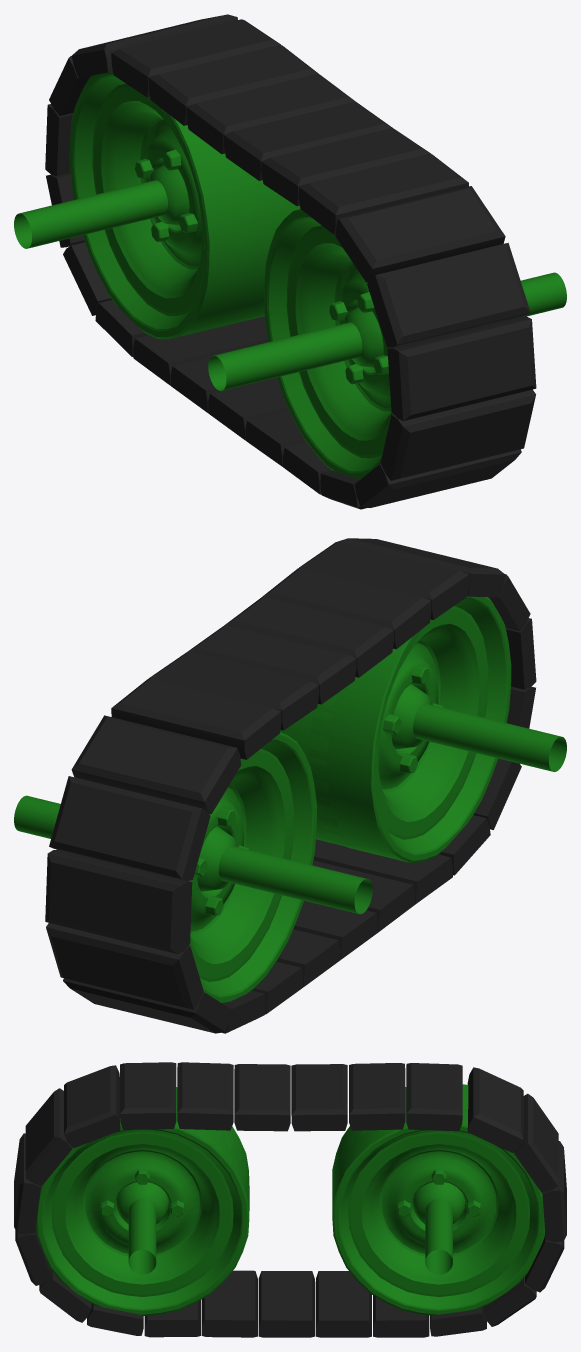
File: Tank_Wheels.FBX
3 renders of one model, top to bottom at view 1: azimuth 30°, elevation 25°; view 2: azimuth 150°, elevation 25°; view 3: azimuth 270°, elevation 25°, orthographic. The views are drawn at different scales.
Visible parts, largest first — view 1: TankTracksRight, TankTracksLeft; view 2: TankTracksRight, TankTracksLeft; view 3: TankTracksLeft, TankTracksRight.
Boxes of the visible parts, x1,y1,x2,y2 form: TankTracksRight: [61, 14, 566, 502]; TankTracksLeft: [14, 16, 529, 509]; TankTracksRight: [14, 538, 517, 1030]; TankTracksLeft: [52, 540, 566, 1033]; TankTracksLeft: [14, 1062, 566, 1328]; TankTracksRight: [14, 1064, 566, 1337].
Size of the model in its own units: 289 by 245 by 532.
